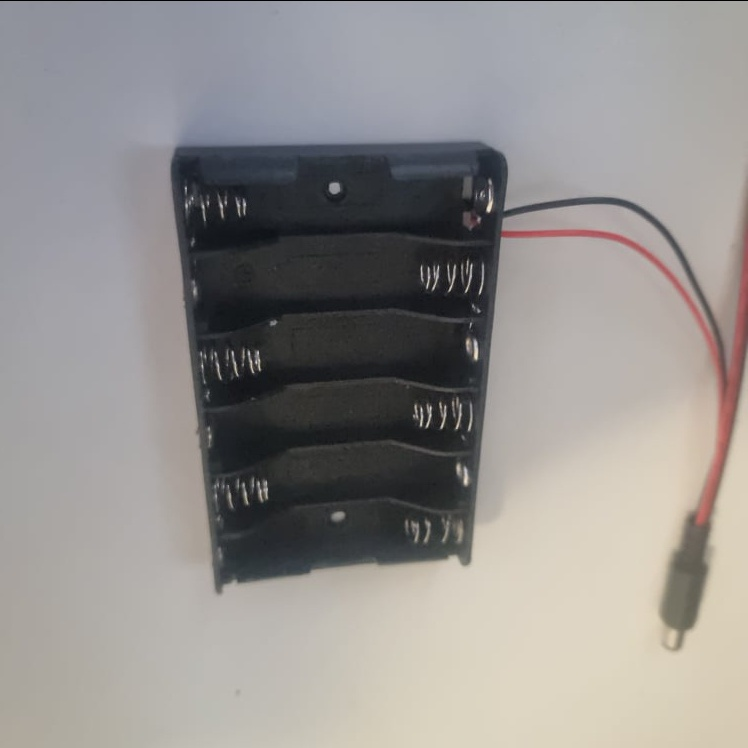BATTERY BOX: (168, 142, 509, 594)
